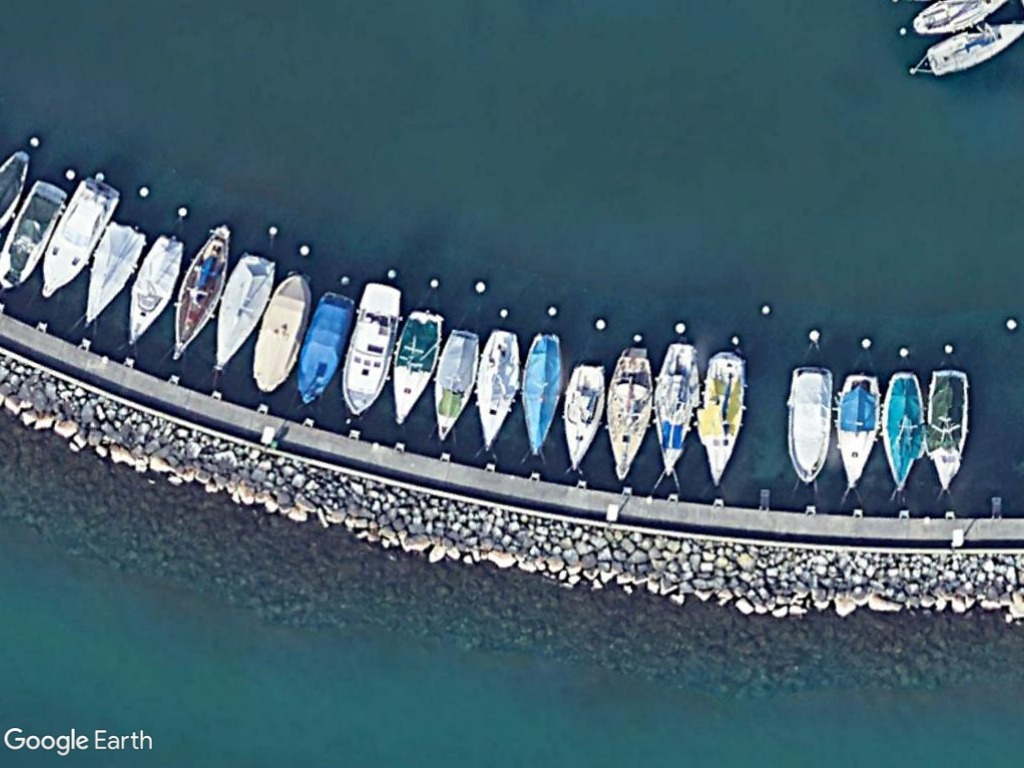boat: (34, 179, 123, 302), (165, 223, 234, 366), (336, 278, 401, 421), (204, 250, 277, 376), (250, 268, 314, 398), (0, 177, 70, 293), (78, 219, 149, 329), (293, 286, 356, 408), (120, 234, 186, 347), (696, 347, 747, 489), (388, 304, 443, 430), (830, 366, 884, 493), (918, 16, 1024, 80), (473, 325, 525, 454), (606, 347, 653, 488), (653, 335, 699, 479), (518, 330, 566, 457), (430, 328, 480, 449), (786, 360, 835, 482), (560, 357, 608, 476), (925, 367, 970, 493), (881, 368, 924, 496)
